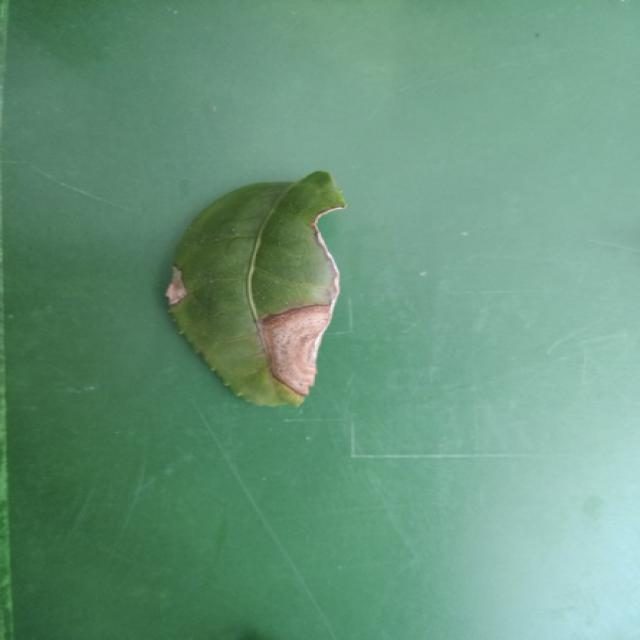Tea cloud leaf blight: (259, 294, 358, 402)
